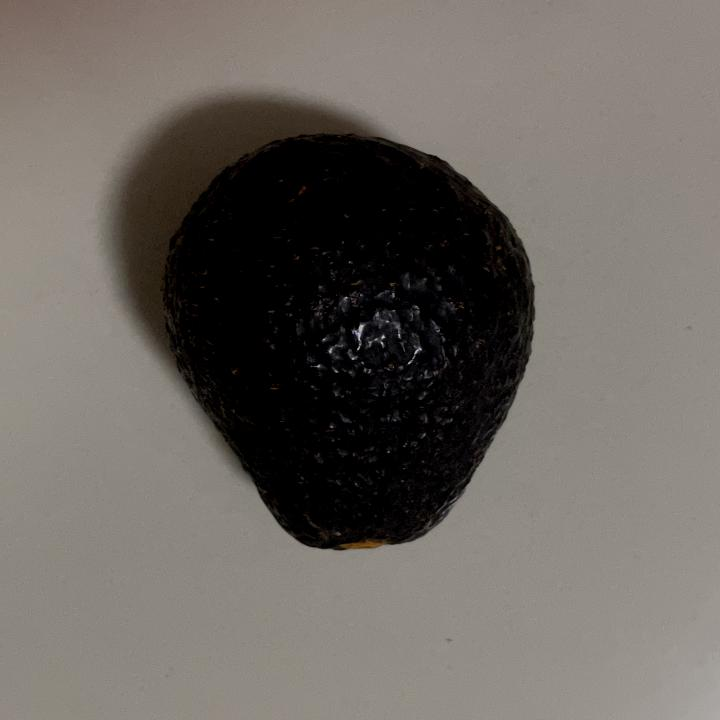Level3: (150, 124, 548, 566)
